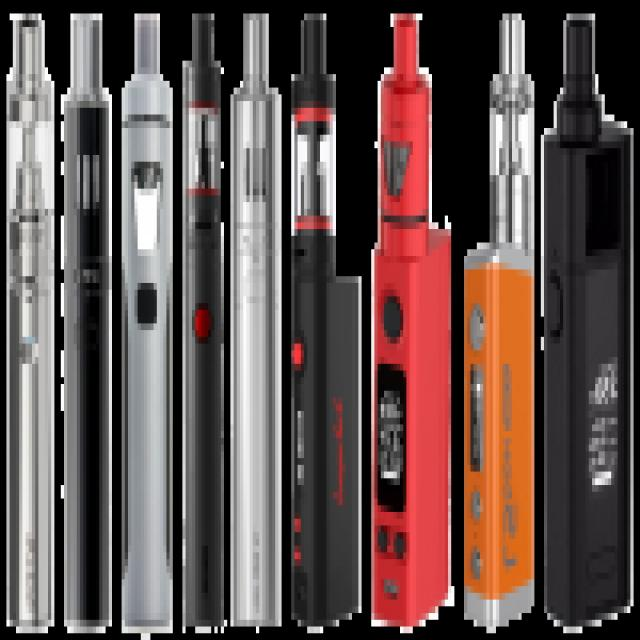Cigarette: (543, 20, 630, 627), (372, 16, 451, 626), (464, 17, 533, 627), (294, 14, 362, 620), (122, 14, 171, 627), (7, 22, 52, 632), (64, 15, 109, 622), (233, 16, 277, 623), (185, 18, 223, 627)
